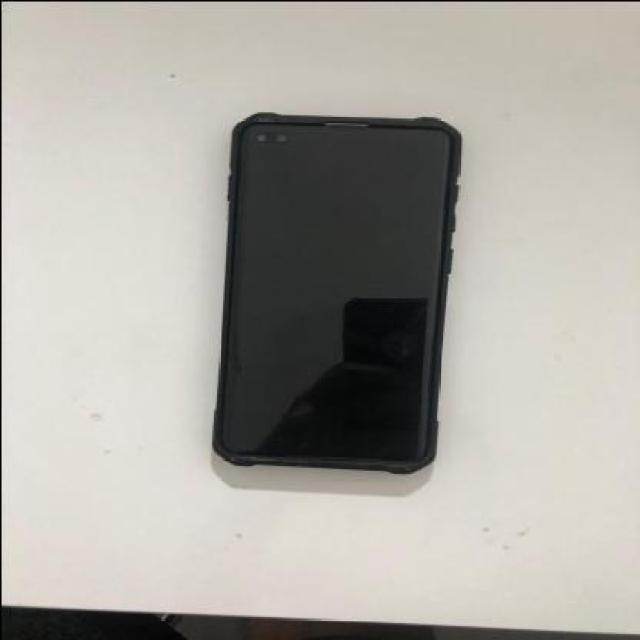phone: (203, 105, 462, 478)
